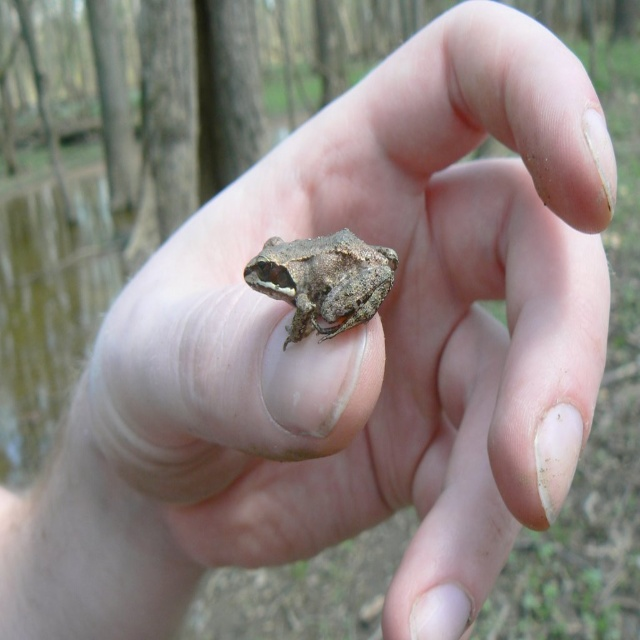Frog: (242, 226, 399, 353)
